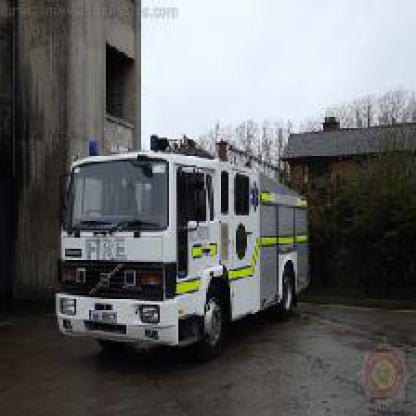emergency: (54, 127, 338, 389)
